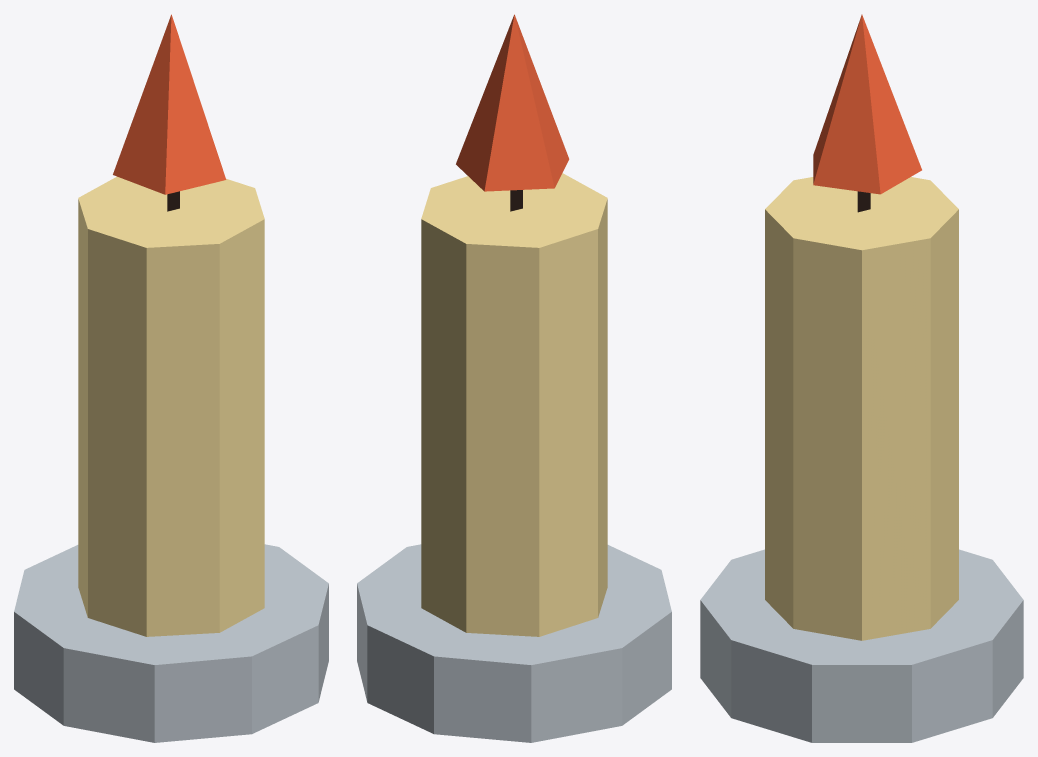
File: good_candle.glb
3 views of the same model, side by side, from view 1: azimuth 30°, elevation 25°; view 2: azimuth 150°, elevation 25°; view 3: azimuth 270°, elevation 25° (orthographic).
Parts seen in each view (by area): view 1: good_candle; view 2: good_candle; view 3: good_candle.
Boxes of the visible parts, bbox=[...] form: good_candle: bbox=[14, 14, 328, 742]; good_candle: bbox=[357, 14, 671, 742]; good_candle: bbox=[700, 14, 1023, 742].
Bounding box in the file's own units: 0.1427 × 0.34 × 0.15.
